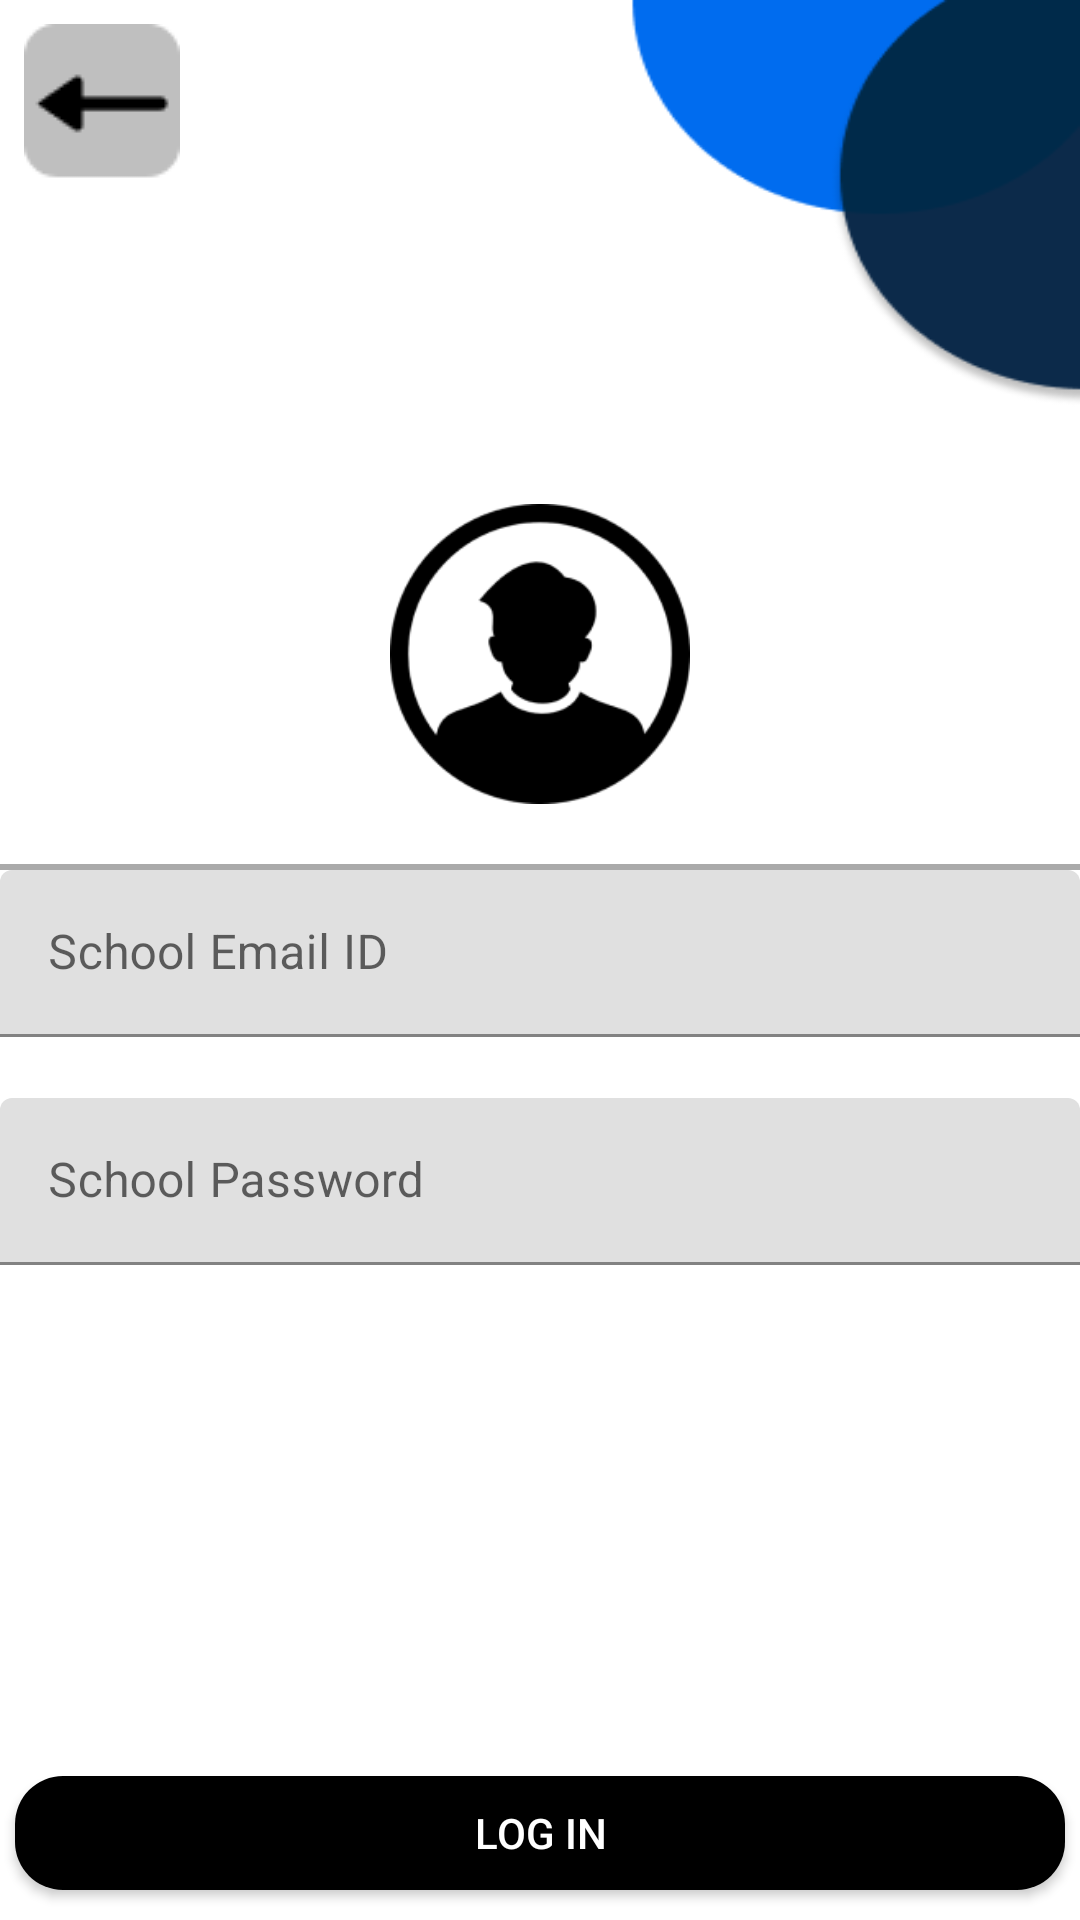

Icon bounding boxes for this 1080px×1920px phone screenshot, format (x1, y1, x2, y2):
backbutton: (24, 24, 180, 177)
profile picture: (390, 504, 690, 804)
